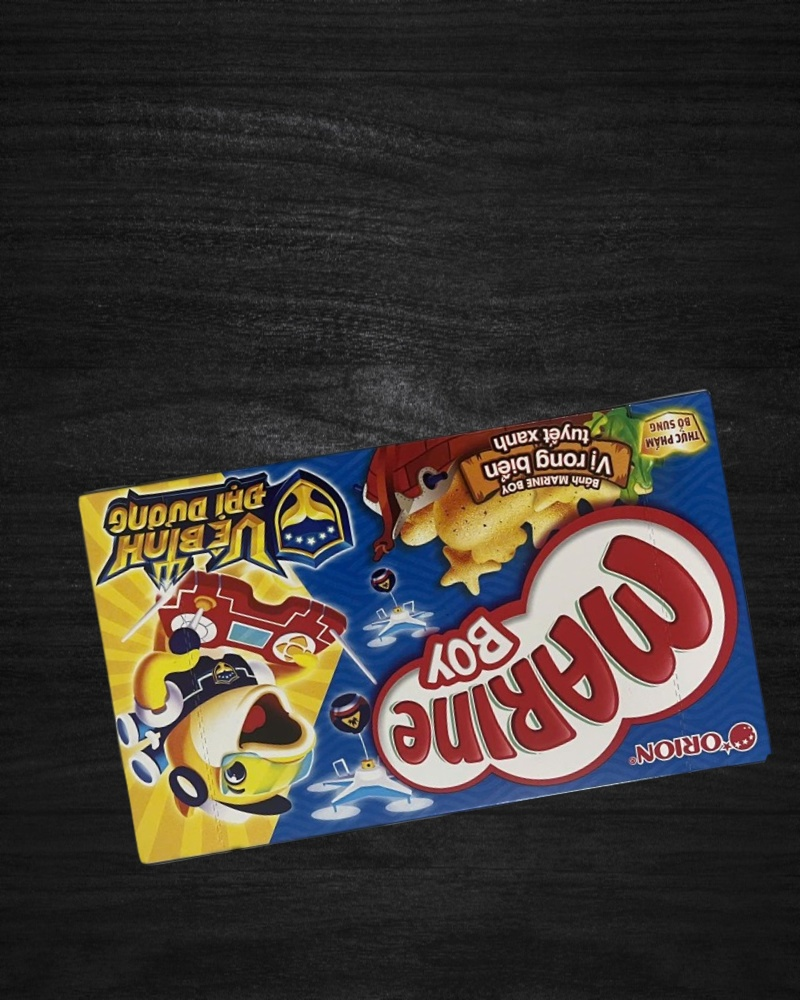Marine: (74, 383, 776, 872)
